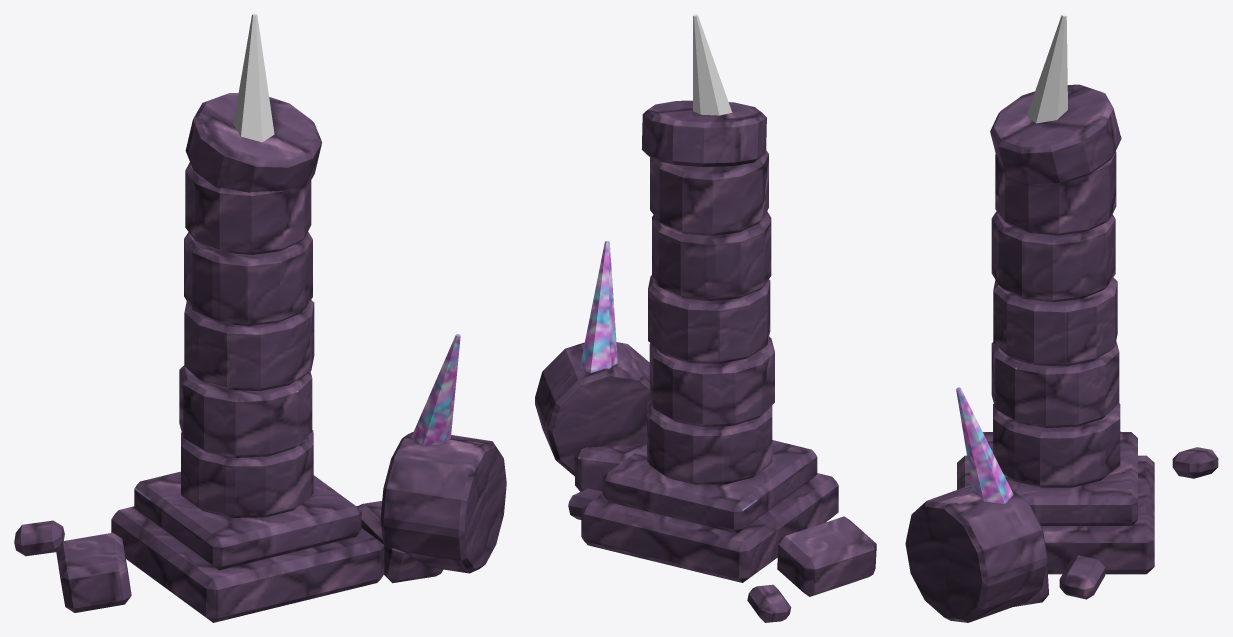
Rendered from mapkit_pillar_crystal.fbx.
The picture shows the model from 3 angles, left to right: view 1: azimuth 30°, elevation 25°; view 2: azimuth 150°, elevation 25°; view 3: azimuth 270°, elevation 25°; orthographic projection. The views are drawn at different scales.
Parts seen in each view (by area): view 1: Body, c_115_230_255; view 2: Body, c_115_230_255; view 3: Body, c_115_230_255.
Boxes of the visible parts, x1,y1,x2,y2 form: Body: (14, 93, 506, 622); c_115_230_255: (233, 14, 274, 142); Body: (535, 100, 876, 622); c_115_230_255: (693, 14, 732, 115); Body: (905, 84, 1218, 622); c_115_230_255: (1026, 14, 1067, 123).
Bounding box in the file's own units: 676 × 899 × 475.
Materials: 1 (1 with a texture image).
